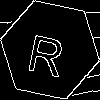R: (25, 25, 68, 78)
